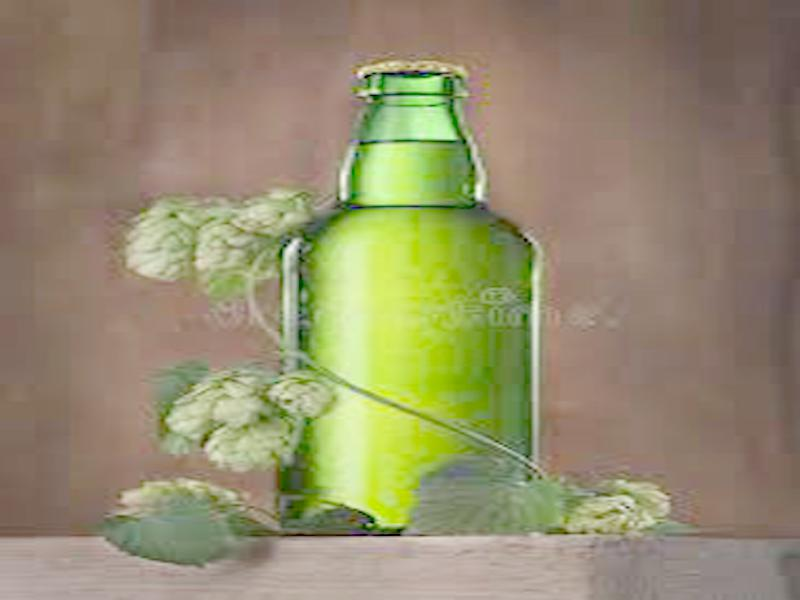Beer: (289, 59, 542, 543)
